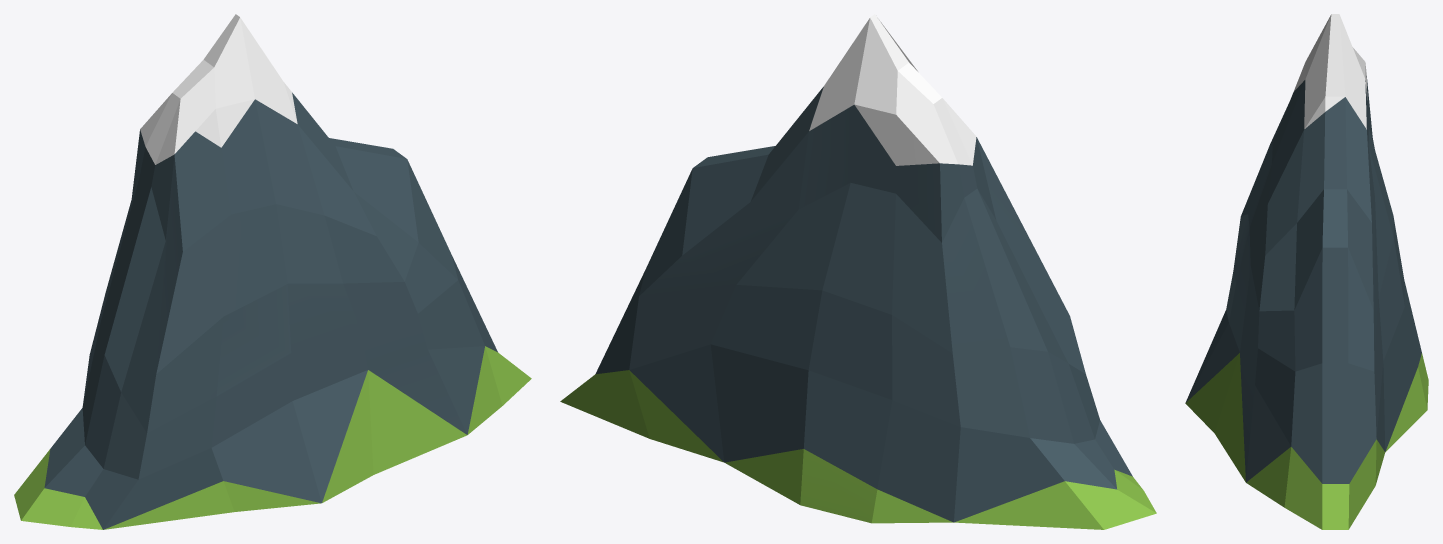
The model's file is mountain.fbx.
3 views of the same model, side by side, from view 1: azimuth 30°, elevation 25°; view 2: azimuth 150°, elevation 25°; view 3: azimuth 270°, elevation 25° (orthographic). The views are drawn at different scales.
Parts seen in each view (by area): view 1: mountain__1_; view 2: mountain__1_; view 3: mountain__1_.
Part boxes in pixels (x1,y1,x2,y2): mountain__1_: (14,14,531,529); mountain__1_: (560,14,1156,529); mountain__1_: (1185,14,1428,529).
Size of the model in its own units: 1086 by 839 by 476.
